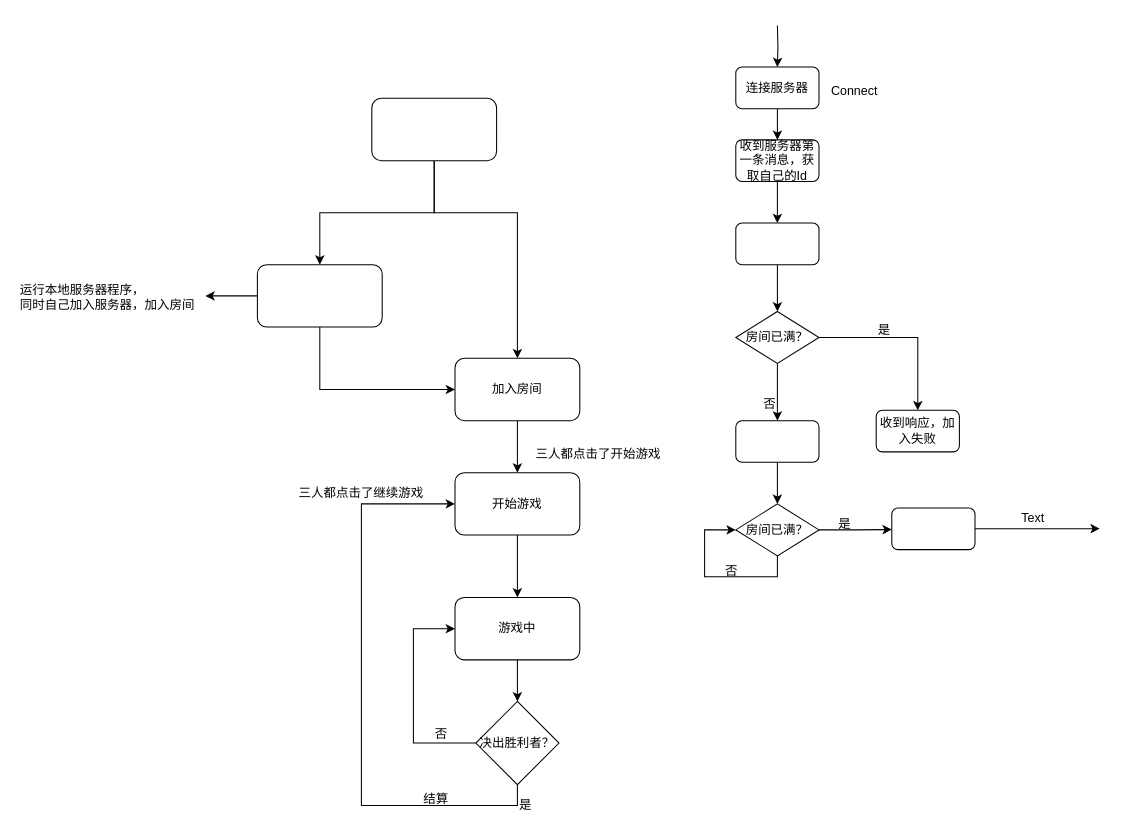
Some shapes in this 1126 by 832 pixel diagram are drawn without their labels. The centre of each missing label's shape, as x and y in pixels:
创建房间: pixel 319 295
加入成功: pixel 777 441
发送加入房间请求: pixel 777 243
显示开始游戏按钮，等待开始: pixel 933 528
进入游戏: pixel 434 129
